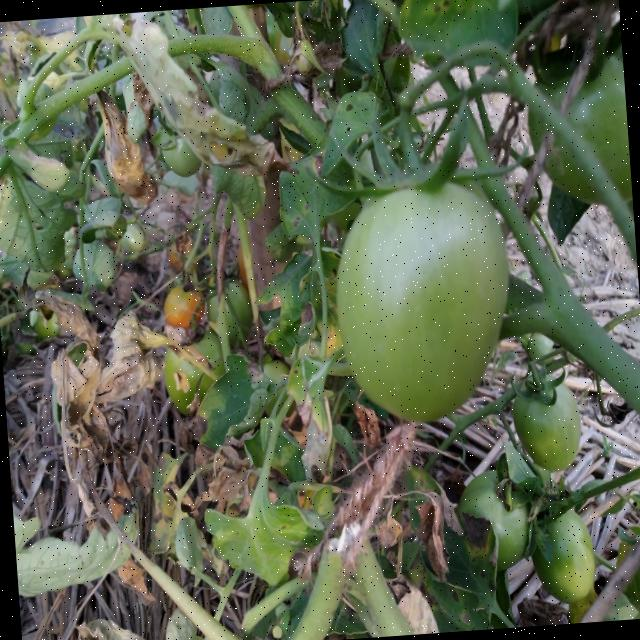Unripe: (327, 162, 518, 429), (515, 366, 584, 474)
